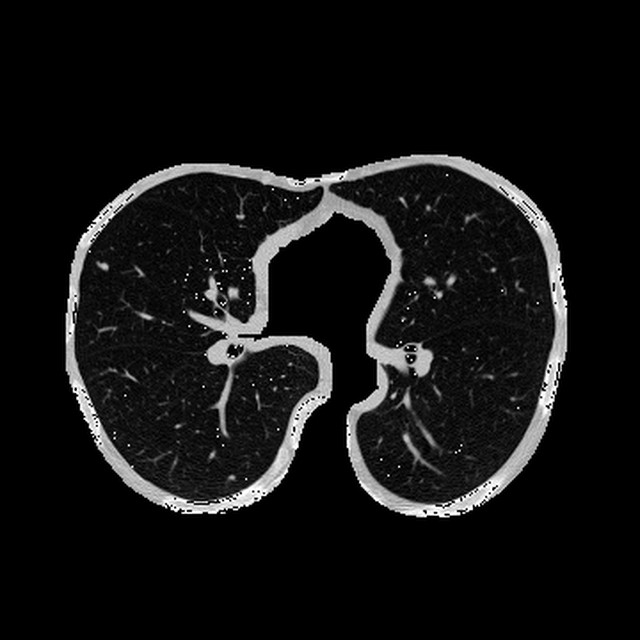PN: (98, 260, 108, 270)
